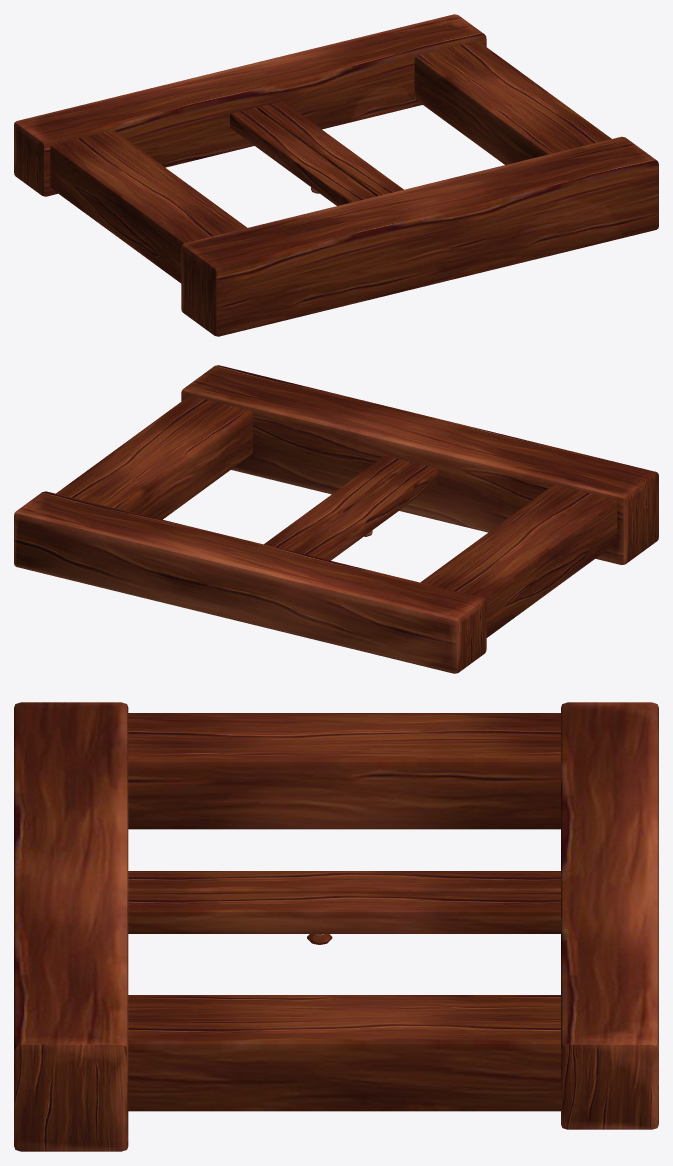
File: Ventana Fin.FBX
3 views of the same model, one above another, from view 1: azimuth 30°, elevation 25°; view 2: azimuth 150°, elevation 25°; view 3: azimuth 270°, elevation 25° (orthographic). The views are drawn at different scales.
Parts seen in each view (by area): view 1: Ventana; view 2: Ventana; view 3: Ventana.
Boxes of the visible parts, left/top/right/bottom form: Ventana: left=14, top=14, right=658, bottom=336; Ventana: left=14, top=365, right=658, bottom=673; Ventana: left=14, top=702, right=658, bottom=1151.
Size of the model in its own units: 125 by 18.5 by 98.98.
Materials: 1 (1 with a texture image).
